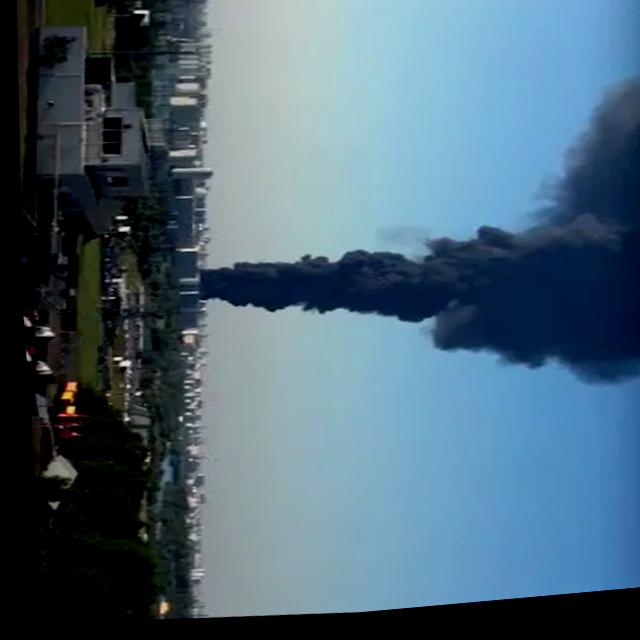Smoke: (183, 171, 640, 434)
